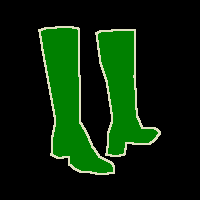shoe: (39, 26, 114, 174), (96, 29, 160, 156)
